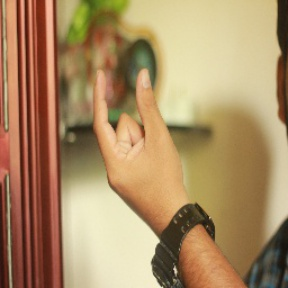U: (85, 63, 179, 194)
